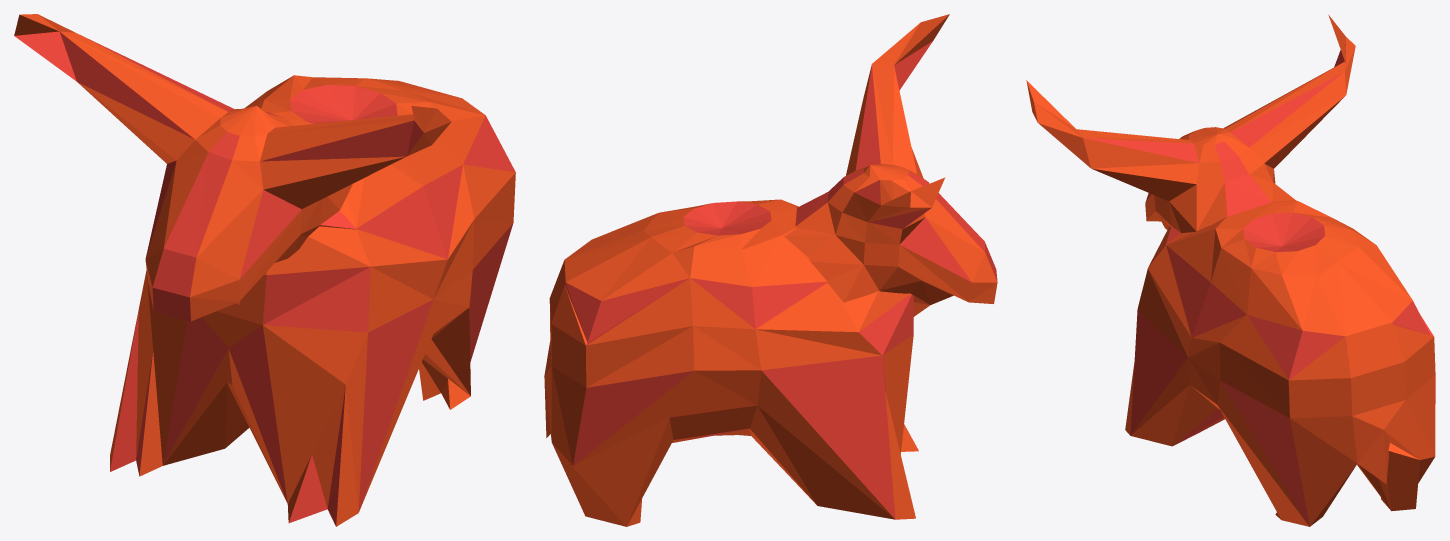
3 views of the same model, side by side, from view 1: azimuth 30°, elevation 25°; view 2: azimuth 150°, elevation 25°; view 3: azimuth 270°, elevation 25° (orthographic). The views are drawn at different scales.
Visible parts, largest first — view 1: group1647741081, group1051228443; view 2: group1647741081, group1051228443; view 3: group1647741081, group1051228443.
Part boxes in pixels (x1=…): group1647741081: x1=110, y1=75, x2=515, y2=526; group1051228443: x1=14, y1=14, x2=451, y2=321; group1647741081: x1=544, y1=199, x2=918, y2=526; group1051228443: x1=784, y1=14, x2=997, y2=316; group1647741081: x1=1125, y1=200, x2=1435, y2=526; group1051228443: x1=1026, y1=14, x2=1355, y2=245.
Bounding box in the file's own units: 1.08 × 1.05 × 1.07.
